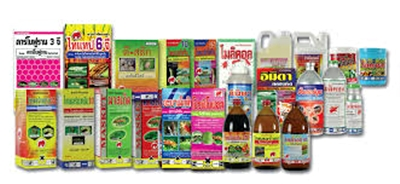Insecticide: (13, 86, 57, 171), (55, 87, 96, 171), (63, 22, 114, 88), (189, 85, 226, 173), (95, 86, 133, 171), (159, 87, 194, 173), (13, 28, 64, 87), (111, 38, 159, 91), (131, 89, 162, 171), (294, 60, 326, 138), (280, 99, 313, 174), (251, 98, 282, 174), (222, 96, 252, 172), (321, 61, 348, 138), (290, 30, 332, 79), (215, 37, 257, 80), (256, 28, 295, 69), (224, 62, 252, 115), (342, 73, 365, 137), (163, 38, 191, 88), (356, 45, 389, 87), (191, 37, 215, 84)
